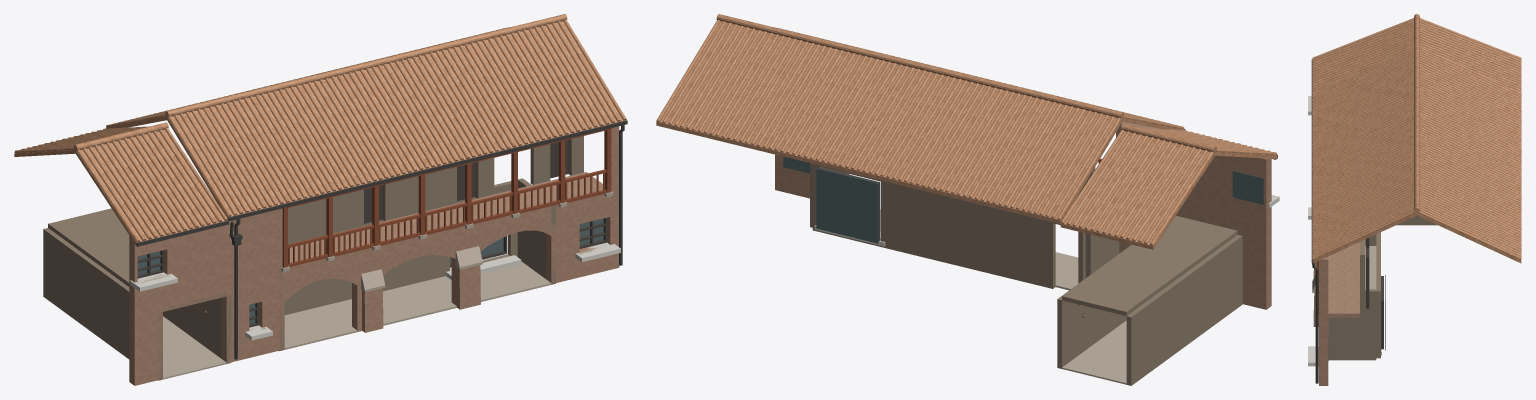
The model's file is changning-sun-ke-villa-annex-gallery.fbx.
3 views of the same model, side by side, from view 1: azimuth 30°, elevation 25°; view 2: azimuth 150°, elevation 25°; view 3: azimuth 270°, elevation 25° (orthographic). The views are drawn at different scales.
Parts seen in each view (by area): view 1: Clay roof/barrel cover roll, Clay roof/sheet below tile rolls, Annex frontage/Street screen, three segmental arch 49de0ceee, Through passage/plastered cheek, Gallery return/Rear wall with visible openings, Lower arcade/paving, Upper gallery/balcony slab, Arcade return/Inside wall and garden opening, Through passage/flat soffit, Clay roof/ridge cap, Eaves/section trough, Through passage/threshold flags (+9 smaller); view 2: Clay roof/barrel cover roll, Clay roof/sheet below tile rolls, Arcade return/Inside wall and garden opening, Through passage/plastered cheek, Annex frontage/Street screen, three segmental arch 49de0ceee, Through passage/flat soffit, Arcade return/Recessed steel screen-glass, Clay roof/ridge cap, Through passage/threshold flags, Lower arcade/return, Annex frontage/Steel casement 1-glass, Lower arcade/paving; view 3: Clay roof/barrel cover roll, Lower arcade/return, Upper gallery/balcony slab, Annex frontage/Street screen, three segmental arch 49de0ceee, Clay roof/ridge cap, Clay roof/sheet below tile rolls, Arcade return/Inside wall and garden opening, Eaves/downpipe 2, Gallery return/Rear wall with visible openings, Eaves/section trough, Lower arcade/paving, Through passage/plastered cheek (+2 smaller).
Boxes of the visible parts, x1=… form: Clay roof/barrel cover roll: x1=14, y1=19, x2=626, y2=242; Clay roof/sheet below tile rolls: x1=14, y1=21, x2=626, y2=246; Annex frontage/Street screen, three segmental arch 49de0ceee: x1=129, y1=126, x2=619, y2=385; Through passage/plastered cheek: x1=43, y1=228, x2=231, y2=380; Gallery return/Rear wall with visible openings: x1=288, y1=136, x2=583, y2=244; Lower arcade/paving: x1=284, y1=261, x2=551, y2=349; Upper gallery/balcony slab: x1=289, y1=172, x2=604, y2=271; Arcade return/Inside wall and garden opening: x1=284, y1=181, x2=517, y2=315; Through passage/flat soffit: x1=48, y1=208, x2=226, y2=311; Clay roof/ridge cap: x1=74, y1=14, x2=567, y2=151; Eaves/section trough: x1=135, y1=120, x2=627, y2=246; Through passage/threshold flags: x1=163, y1=316, x2=226, y2=379; Clay roof/barrel cover roll: x1=656, y1=20, x2=1276, y2=245; Clay roof/sheet below tile rolls: x1=656, y1=21, x2=1277, y2=249; Arcade return/Inside wall and garden opening: x1=812, y1=164, x2=1085, y2=288; Through passage/plastered cheek: x1=1057, y1=235, x2=1242, y2=385; Annex frontage/Street screen, three segmental arch 49de0ceee: x1=775, y1=121, x2=1271, y2=309; Through passage/flat soffit: x1=1062, y1=215, x2=1237, y2=315; Arcade return/Recessed steel screen-glass: x1=816, y1=168, x2=878, y2=243; Clay roof/ridge cap: x1=716, y1=14, x2=1216, y2=152; Through passage/threshold flags: x1=1062, y1=320, x2=1126, y2=384; Lower arcade/return: x1=810, y1=163, x2=1119, y2=277; Annex frontage/Steel casement 1-glass: x1=1232, y1=171, x2=1263, y2=204; Lower arcade/paving: x1=880, y1=209, x2=1078, y2=290; Clay roof/barrel cover roll: x1=1312, y1=18, x2=1521, y2=259; Lower arcade/return: x1=1328, y1=234, x2=1376, y2=360; Upper gallery/balcony slab: x1=1328, y1=242, x2=1359, y2=317; Annex frontage/Street screen, three segmental arch 49de0ceee: x1=1319, y1=256, x2=1328, y2=385; Clay roof/ridge cap: x1=1414, y1=14, x2=1419, y2=213; Clay roof/sheet below tile rolls: x1=1312, y1=213, x2=1521, y2=263; Arcade return/Inside wall and garden opening: x1=1376, y1=232, x2=1380, y2=358; Eaves/downpipe 2: x1=1312, y1=263, x2=1318, y2=383; Gallery return/Rear wall with visible openings: x1=1360, y1=239, x2=1365, y2=313; Eaves/section trough: x1=1311, y1=59, x2=1315, y2=263; Lower arcade/paving: x1=1365, y1=246, x2=1376, y2=289; Through passage/plastered cheek: x1=1396, y1=215, x2=1437, y2=225.
Size of the model in its own units: 17.49 by 7.2 by 7.76.
Materials: 11 (2 with a texture image).
